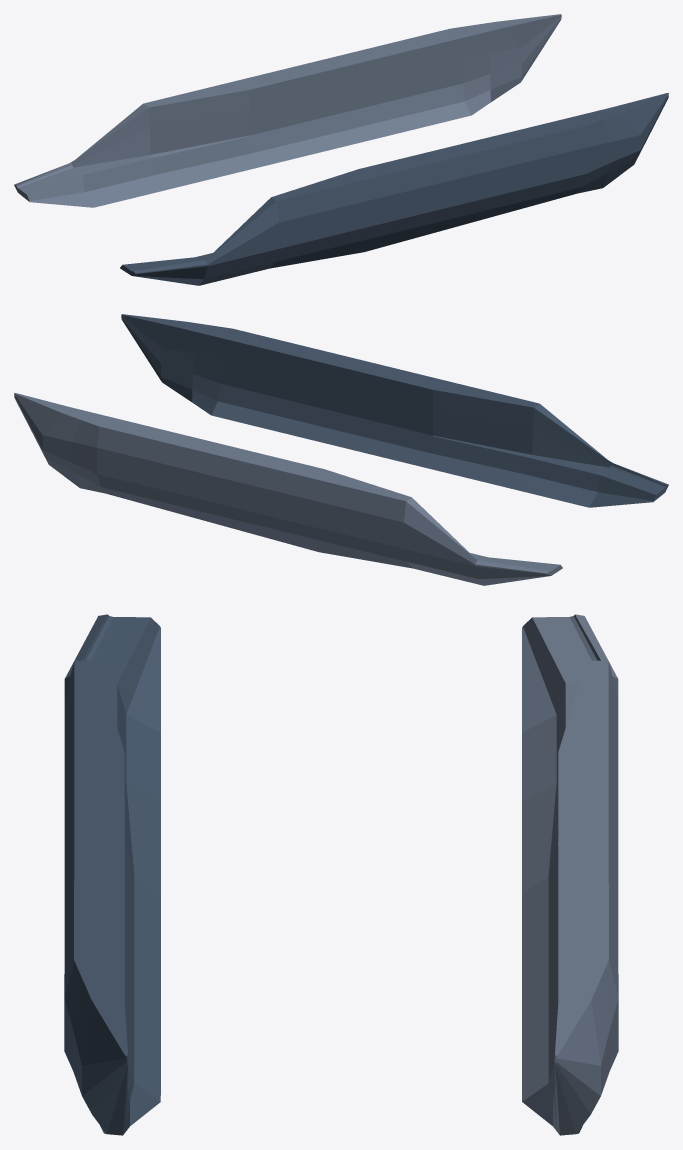
The picture shows the model from 3 angles, top to bottom: view 1: azimuth 30°, elevation 25°; view 2: azimuth 150°, elevation 25°; view 3: azimuth 270°, elevation 25°; orthographic projection. The views are drawn at different scales.
Visible parts, largest first — view 1: 立方体.024, 立方体.015; view 2: 立方体.015, 立方体.024; view 3: 立方体.024, 立方体.015.
Boxes of the visible parts, x1,y1,x2,y2 form: 立方体.024: (14, 14, 561, 207); 立方体.015: (120, 93, 668, 285); 立方体.015: (121, 314, 668, 507); 立方体.024: (14, 393, 562, 585); 立方体.024: (522, 614, 618, 1135); 立方体.015: (64, 614, 160, 1135).
Size of the model in its own units: 8.26 by 1.15 by 3.67.
